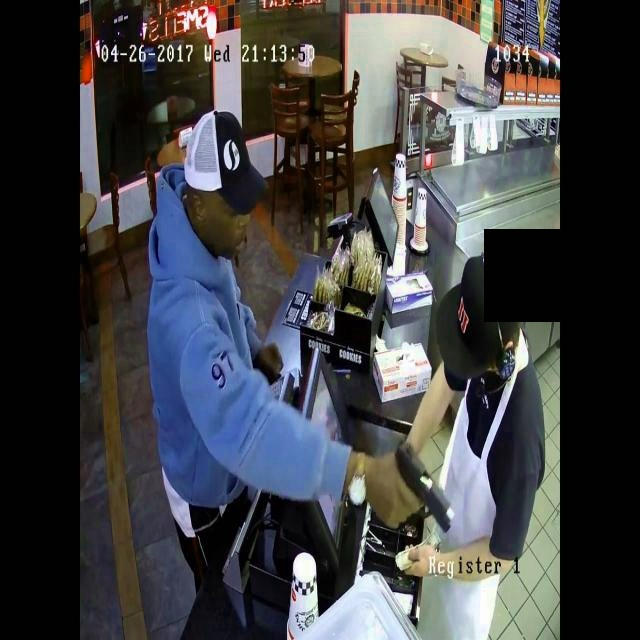gun: (383, 417, 465, 537)
